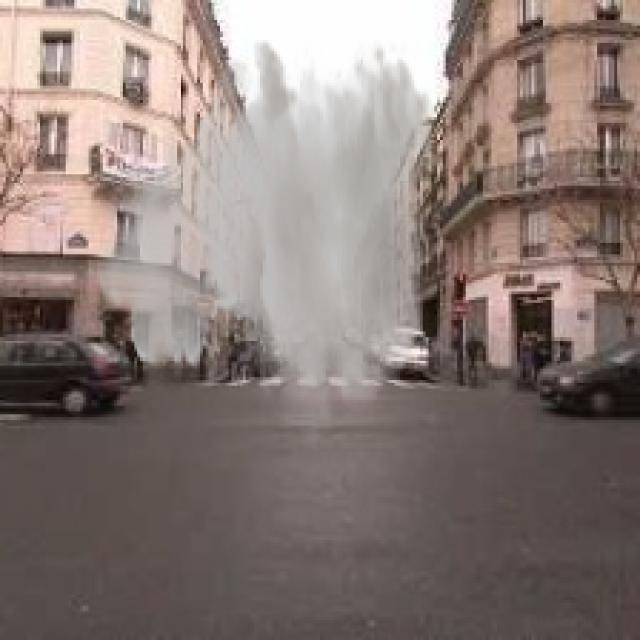smoke: (86, 37, 434, 457)
